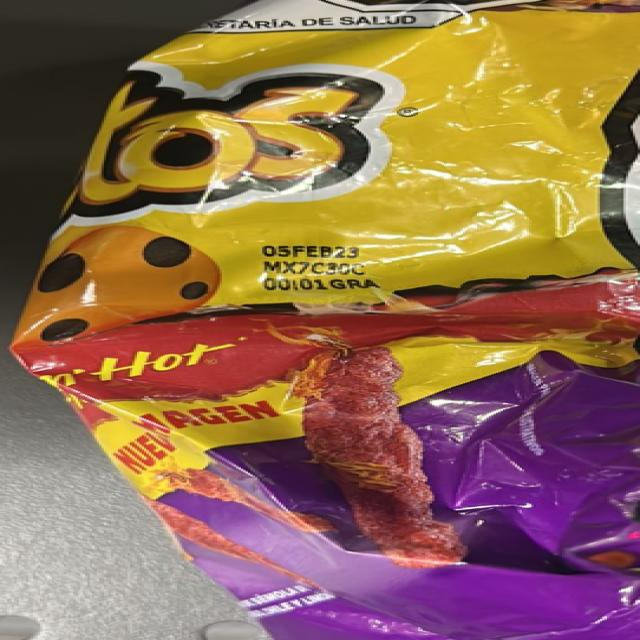cheetosFlaminHot: (47, 2, 640, 636)
